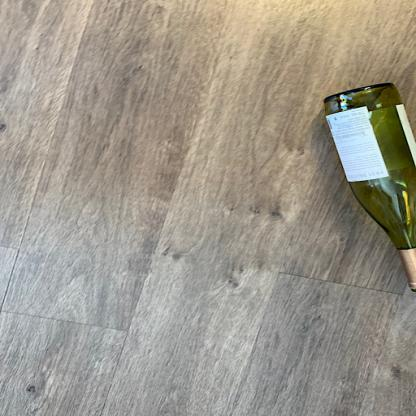trash: (317, 79, 415, 296)
